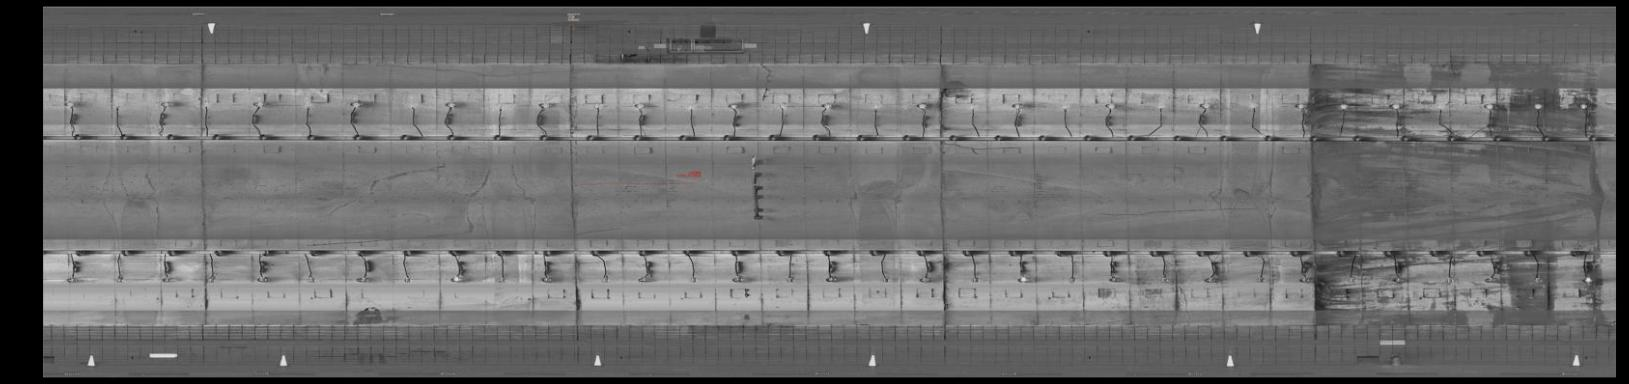light: (636, 272, 659, 287), (1477, 97, 1498, 113), (246, 95, 265, 112), (1192, 99, 1213, 112), (440, 97, 459, 112), (1296, 273, 1316, 286), (344, 95, 362, 111), (154, 97, 172, 111), (489, 99, 508, 113), (1431, 99, 1449, 113), (686, 273, 704, 287), (446, 273, 468, 285), (1575, 273, 1595, 286), (725, 274, 748, 285), (1387, 274, 1408, 286), (626, 99, 648, 110), (586, 100, 606, 112), (1384, 100, 1404, 112), (1203, 274, 1223, 286), (781, 274, 801, 286), (1103, 98, 1120, 112), (599, 272, 616, 286), (297, 98, 315, 111), (1104, 273, 1122, 286), (721, 100, 742, 111), (1525, 274, 1548, 284), (530, 99, 549, 111), (1241, 98, 1260, 110), (1530, 98, 1546, 112), (203, 272, 218, 286), (911, 100, 931, 111), (1481, 273, 1501, 284), (352, 274, 372, 285), (966, 273, 983, 286), (1439, 274, 1457, 286), (197, 99, 212, 113), (680, 100, 696, 113), (1291, 100, 1308, 112), (63, 274, 80, 286), (301, 274, 321, 284), (1064, 274, 1081, 285), (398, 273, 416, 284), (157, 274, 175, 285), (110, 99, 125, 112), (402, 99, 418, 111), (814, 101, 835, 110), (964, 99, 980, 111), (1575, 100, 1591, 112), (821, 274, 839, 284), (111, 274, 127, 286), (253, 274, 270, 285), (1251, 276, 1271, 285), (1157, 274, 1171, 287), (1151, 100, 1167, 111), (1344, 275, 1360, 286), (877, 276, 893, 286), (537, 274, 554, 284), (61, 99, 76, 110), (1056, 103, 1073, 112), (1333, 102, 1351, 111), (493, 275, 511, 284), (1015, 275, 1031, 285), (915, 274, 931, 284), (775, 99, 787, 111), (1009, 100, 1025, 109), (867, 102, 881, 112)
